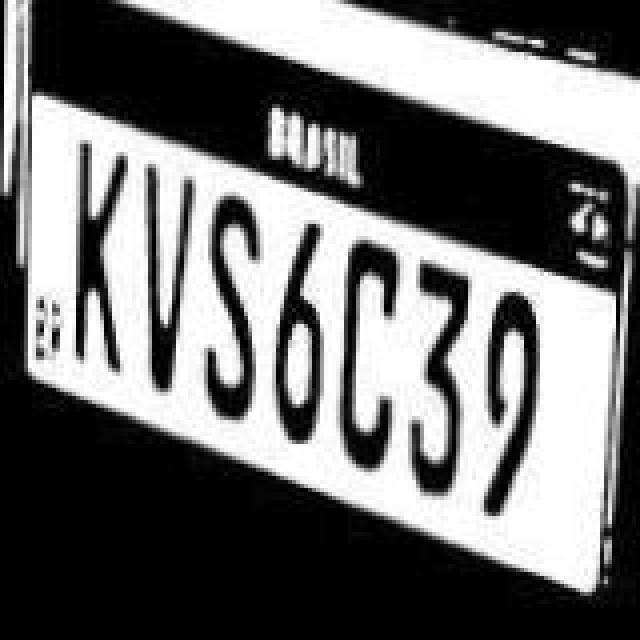3: (400, 260, 476, 500)
6: (268, 214, 332, 450)
9: (484, 290, 552, 530)
C: (336, 236, 416, 468)
K: (60, 126, 136, 382)
S: (196, 196, 268, 436)
V: (120, 158, 200, 410)
